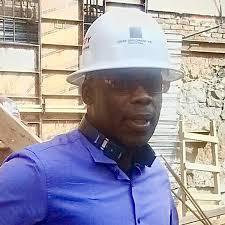helmet: (66, 7, 184, 87)
